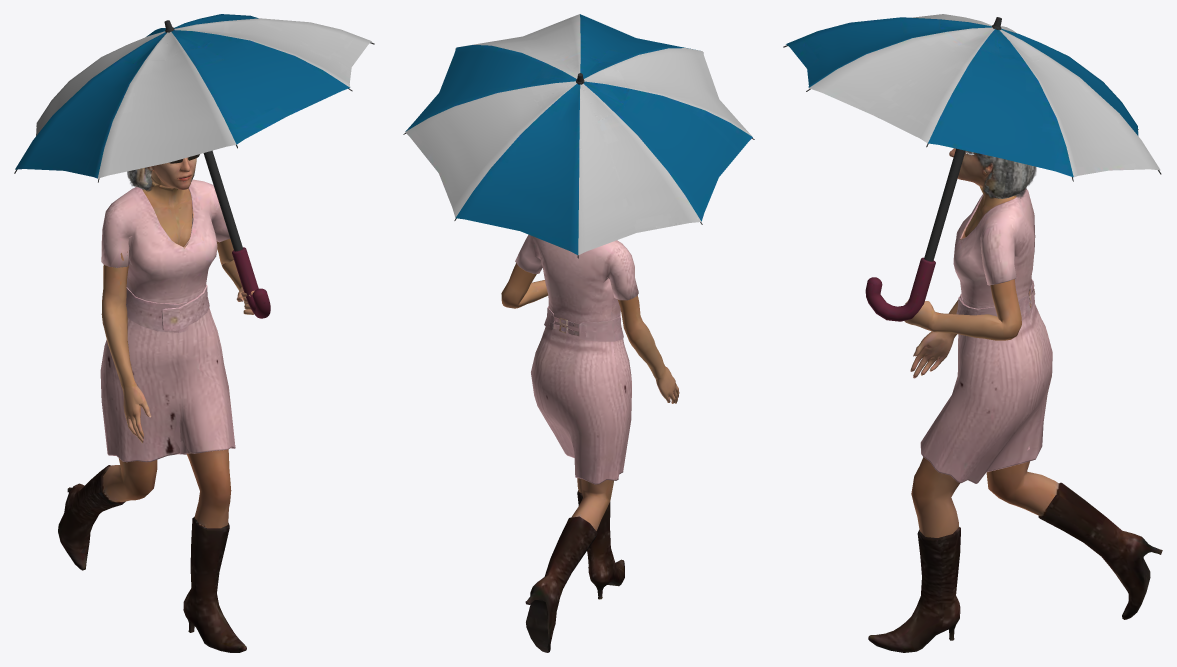
3 views of the same model, side by side, from view 1: azimuth 30°, elevation 25°; view 2: azimuth 150°, elevation 25°; view 3: azimuth 270°, elevation 25° (orthographic). The views are drawn at different scales.
Visible parts, largest first — view 1: umbrella202610_w003, umbrella202610_w003_props; view 2: umbrella202610_w003_props, umbrella202610_w003; view 3: umbrella202610_w003, umbrella202610_w003_props.
Boxes of the visible parts, x1,y1,x2,y2 form: umbrella202610_w003: [58, 154, 254, 652]; umbrella202610_w003_props: [14, 14, 374, 318]; umbrella202610_w003_props: [403, 14, 754, 258]; umbrella202610_w003: [501, 234, 679, 652]; umbrella202610_w003: [868, 148, 1162, 652]; umbrella202610_w003_props: [783, 14, 1161, 321].
Size of the model in its own units: 1.03 by 1.85 by 1.02.
2 materials, 2 textured.
